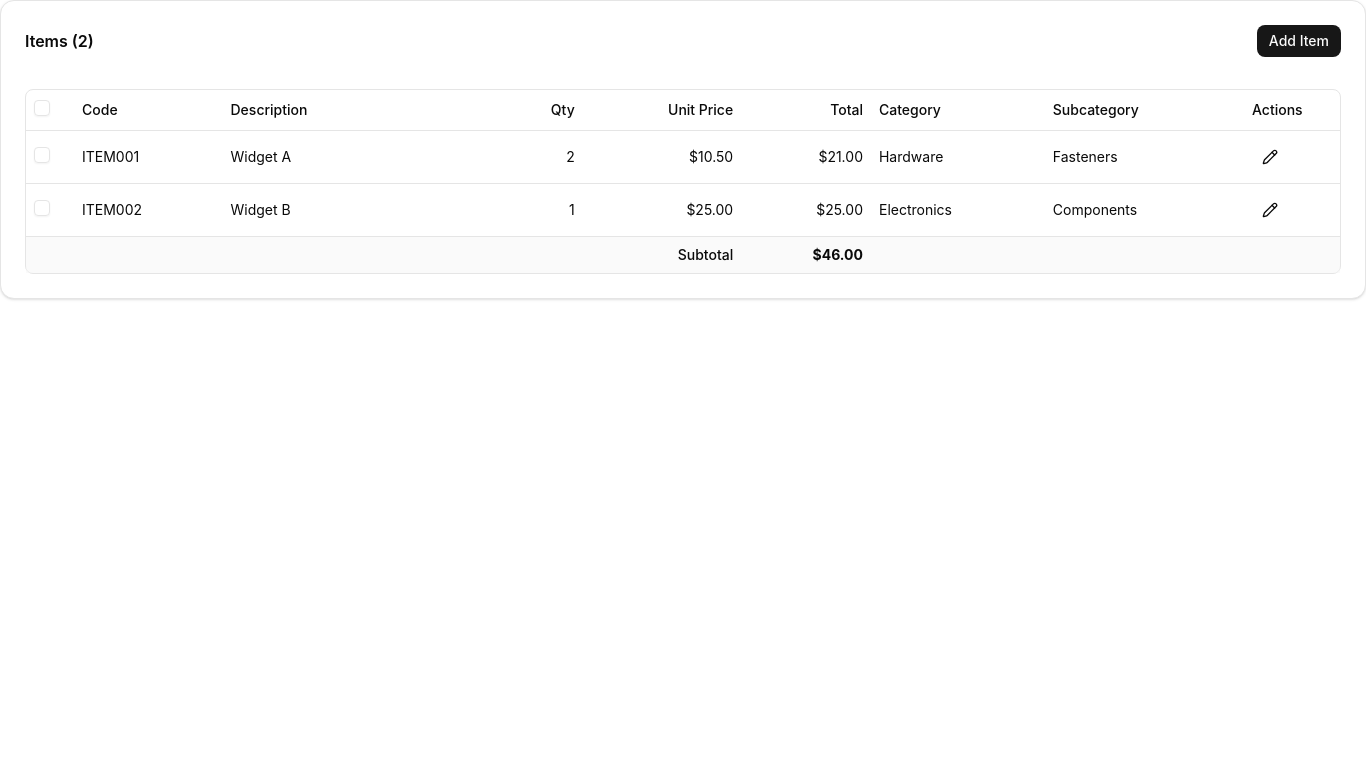
ReceiptItemsCard › opens edit dialog when Edit button is clicked
The width and height of the screenshot is (1366, 768).
Step 1. Click the button named "edit" in the row of "ITEM001" → (1270, 156), box x1=1252 y1=138 x2=1288 y2=174
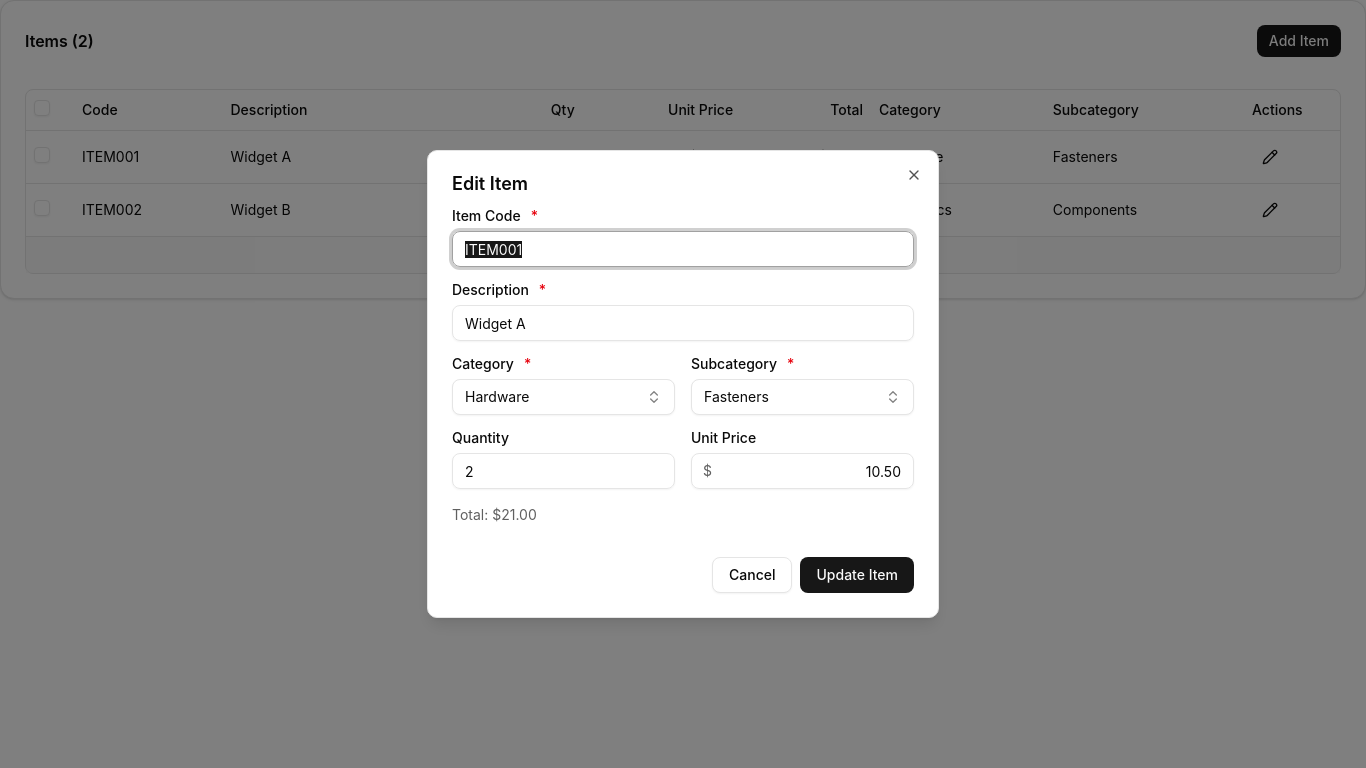
Expected: the heading "Edit Item" is shown, x1=452 y1=173 x2=528 y2=194
